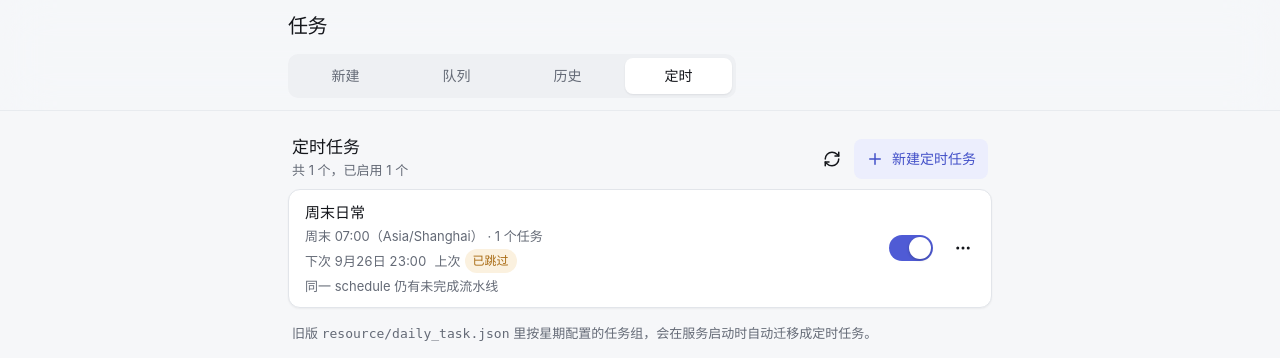
Test: schedule list › switches a schedule on and off from its row with PATCH (S8)
Click the switch named "启用「周末日常」" at (911, 248), box top-left (889, 235), bottom-right (933, 261)
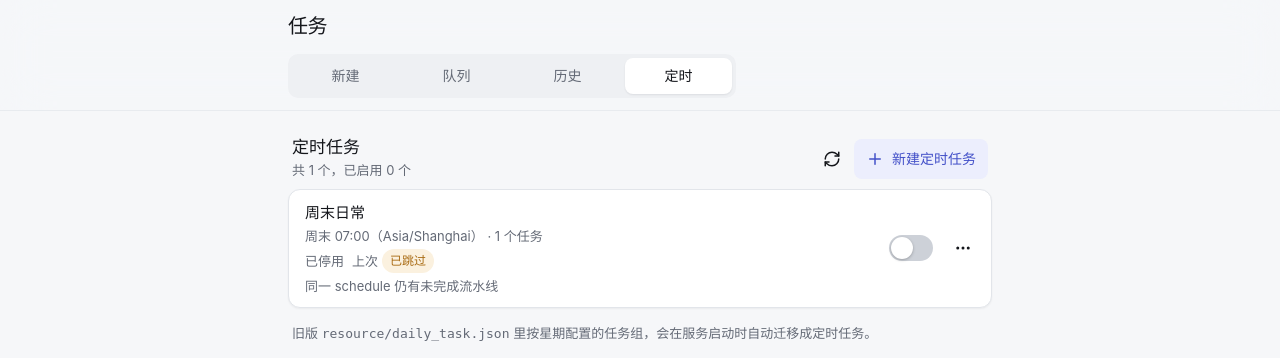
Expected: the link "周末日常" shows "已停用", top-left (305, 203), bottom-right (543, 294)
